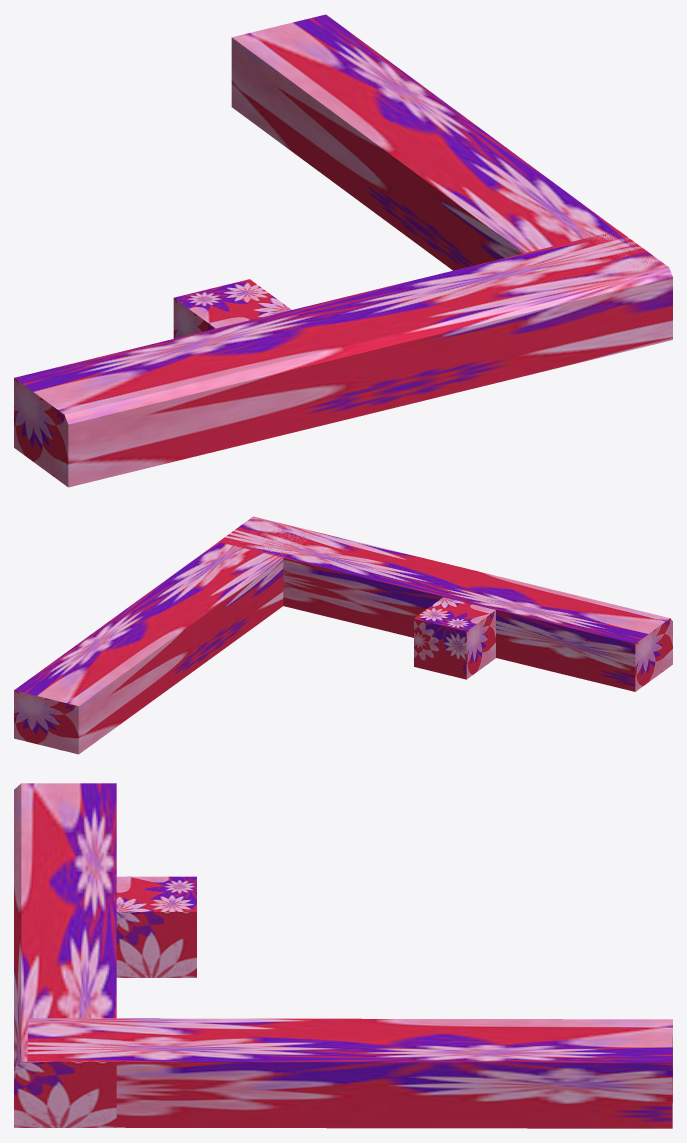
The model's file is Cafeteria.obj.
3 views of the same model, one above another, from view 1: azimuth 30°, elevation 25°; view 2: azimuth 150°, elevation 25°; view 3: azimuth 270°, elevation 25° (orthographic). The views are drawn at different scales.
Visible parts, largest first — view 1: pCube4; view 2: pCube4; view 3: pCube4.
Part boxes in pixels (<box>): pCube4: <box>14,14,672,487</box>; pCube4: <box>14,516,672,754</box>; pCube4: <box>14,783,672,1128</box>.
Size of the model in its own units: 24.03 by 2.66 by 23.95.
